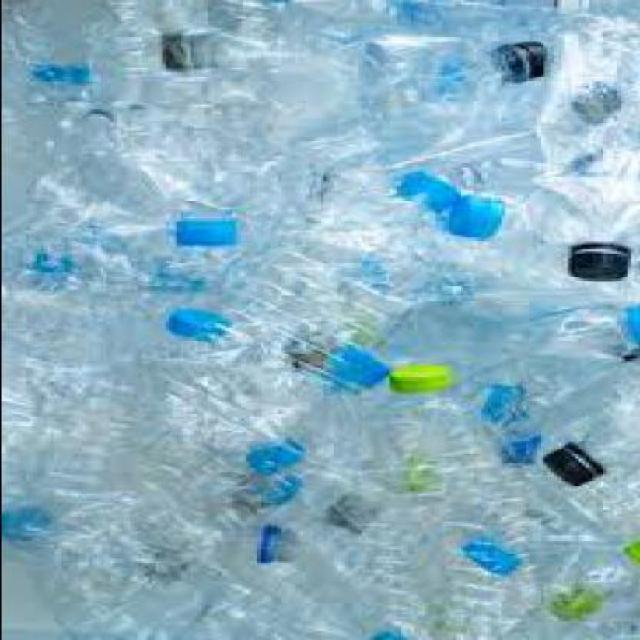PLASTIC: (1, 1, 638, 640), (178, 172, 472, 442), (116, 28, 546, 207), (3, 105, 175, 549), (176, 32, 550, 214), (332, 314, 638, 534), (37, 444, 308, 638), (486, 311, 639, 489), (402, 410, 606, 542), (198, 526, 411, 639), (304, 492, 462, 638), (482, 143, 638, 282), (94, 2, 220, 112), (94, 2, 214, 112), (550, 137, 638, 283), (503, 546, 639, 639), (224, 2, 553, 35), (3, 3, 102, 105), (556, 368, 639, 484), (550, 35, 638, 138), (3, 344, 99, 436), (454, 528, 520, 635), (305, 439, 420, 492), (476, 282, 633, 309), (581, 482, 639, 543), (550, 2, 638, 40), (402, 172, 466, 214), (448, 196, 510, 239), (570, 244, 636, 282), (469, 535, 525, 577), (552, 449, 605, 489), (178, 218, 244, 250), (503, 42, 549, 86), (168, 312, 234, 342), (392, 366, 458, 396), (549, 586, 602, 622), (577, 84, 626, 121), (258, 442, 308, 475), (594, 400, 638, 432), (7, 517, 56, 545), (262, 522, 290, 568), (556, 2, 595, 24)
